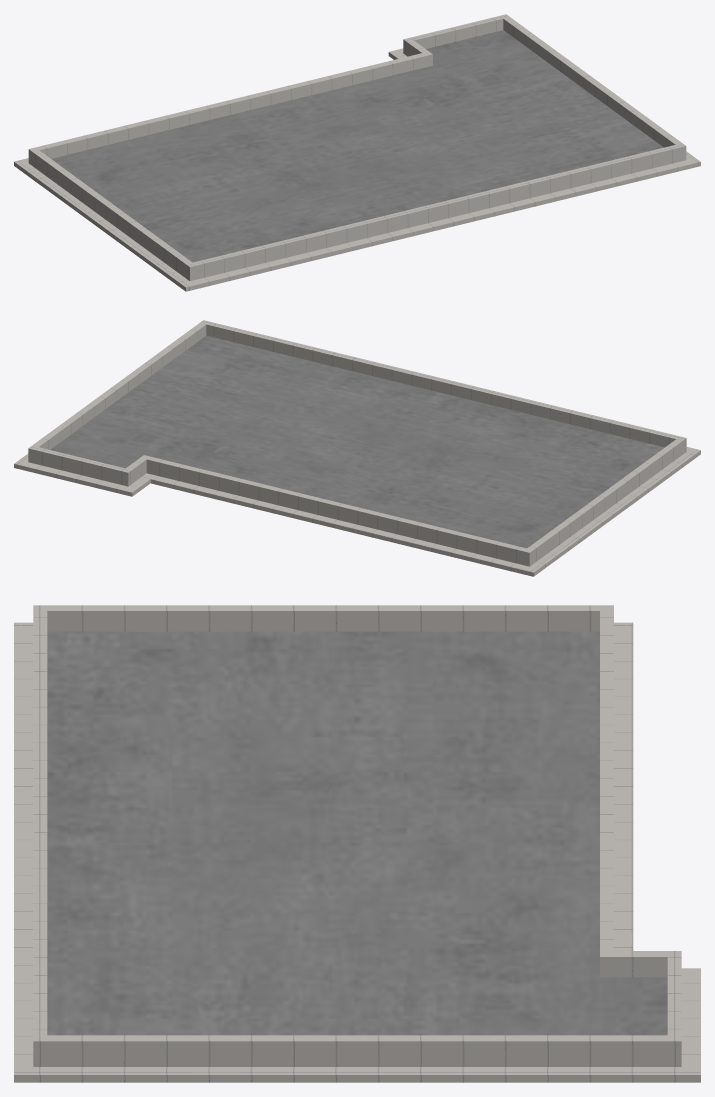
The model's file is Animal-lab-ROOF.glb.
3 renders of one model, top to bottom at view 1: azimuth 30°, elevation 25°; view 2: azimuth 150°, elevation 25°; view 3: azimuth 270°, elevation 25°, orthographic. The views are drawn at different scales.
Visible parts, largest first — view 1: Line167, Line166; view 2: Line167, Line166; view 3: Line167, Line166.
Part boxes in pixels (bbox=[...]): Line167: bbox=[51, 30, 663, 262]; Line166: bbox=[14, 14, 700, 291]; Line167: bbox=[50, 335, 664, 548]; Line166: bbox=[14, 320, 700, 576]; Line167: bbox=[47, 631, 667, 1035]; Line166: bbox=[14, 605, 700, 1082].
Bounding box in the file's own units: 37.95 × 1.3 × 24.35.
2 materials, 2 textured.
